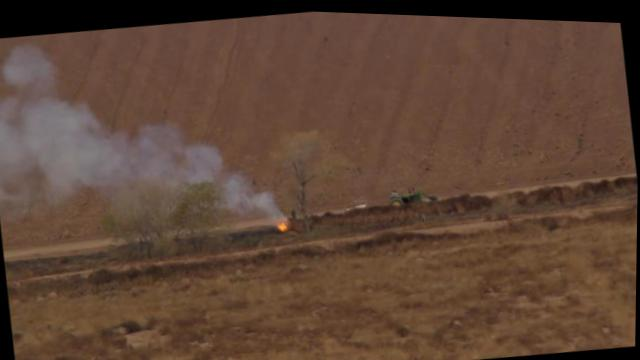fire: (253, 196, 301, 242)
